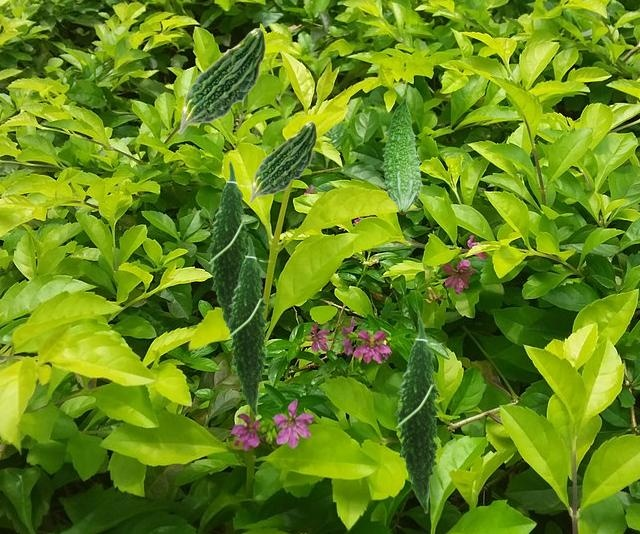ampalaya: (393, 316, 446, 514), (177, 27, 266, 134), (225, 235, 273, 417), (206, 160, 254, 329), (248, 121, 317, 203), (380, 95, 423, 215)
